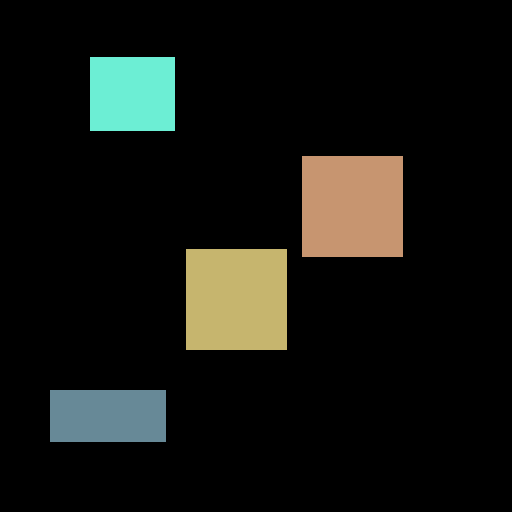rectangle: (90, 57, 174, 130), (50, 390, 165, 441)
square: (186, 249, 286, 349), (302, 156, 402, 256)
